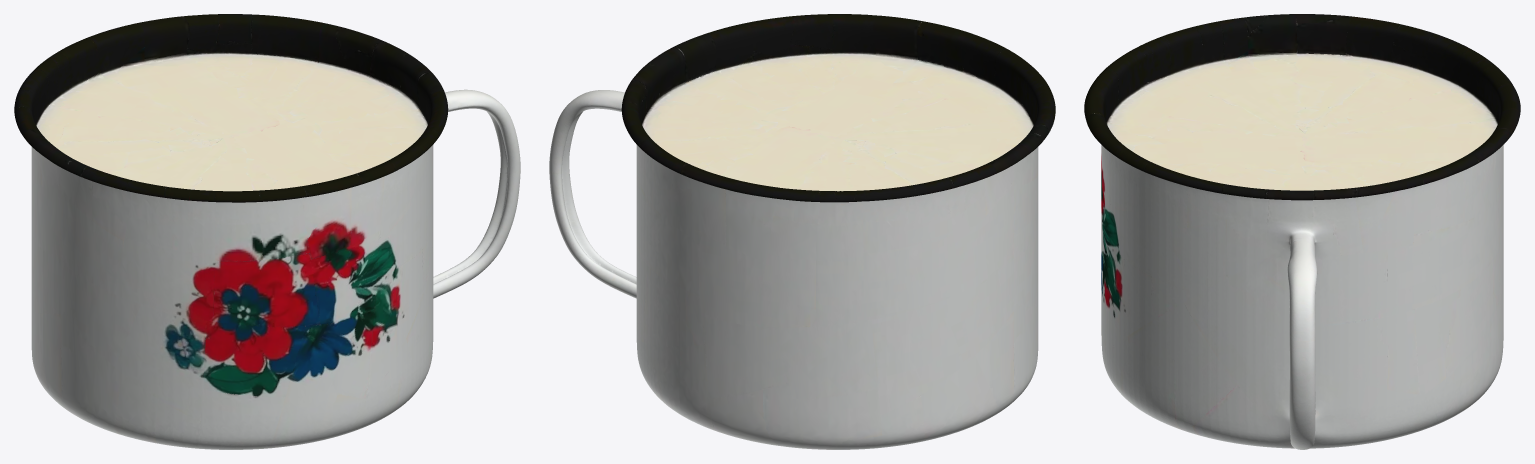
File: pocillo.glb
The picture shows the model from 3 angles, left to right: view 1: azimuth 30°, elevation 25°; view 2: azimuth 150°, elevation 25°; view 3: azimuth 270°, elevation 25°; orthographic projection.
Visible parts, largest first — view 1: Mesh_0; view 2: Mesh_0; view 3: Mesh_0.
Boxes of the visible parts, <box> form: Mesh_0: <box>14,14,520,449</box>; Mesh_0: <box>549,14,1055,449</box>; Mesh_0: <box>1084,14,1520,449</box>.
Size of the model in its own units: 1.9 by 1.03 by 1.52.
Materials: 1 (1 with a texture image).
